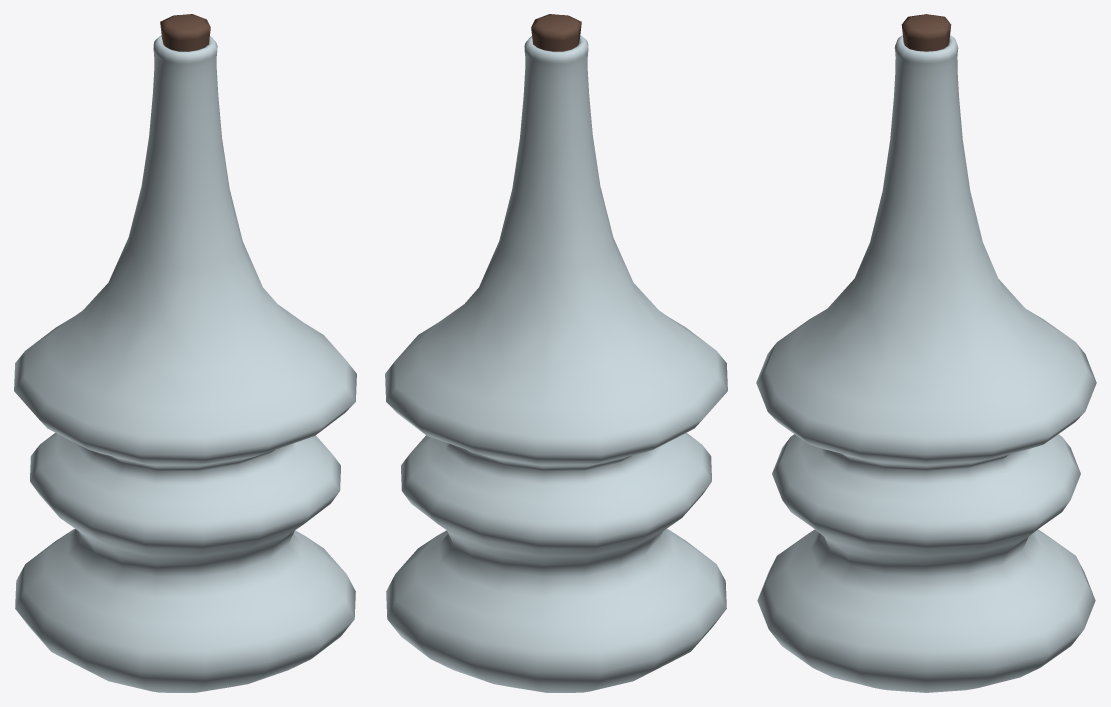
The model's file is rpg_potion6_filled.glb.
3 renders of one model, left to right at view 1: azimuth 30°, elevation 25°; view 2: azimuth 150°, elevation 25°; view 3: azimuth 270°, elevation 25°, orthographic.
Parts seen in each view (by area): view 1: Potion6_Filled; view 2: Potion6_Filled; view 3: Potion6_Filled.
Part boxes in pixels (left/top/right/bottom): Potion6_Filled: left=14, top=14, right=356, bottom=692; Potion6_Filled: left=385, top=14, right=727, bottom=692; Potion6_Filled: left=756, top=14, right=1096, bottom=692.
Bounding box in the file's own units: 0.7081 × 1.51 × 0.7081.
